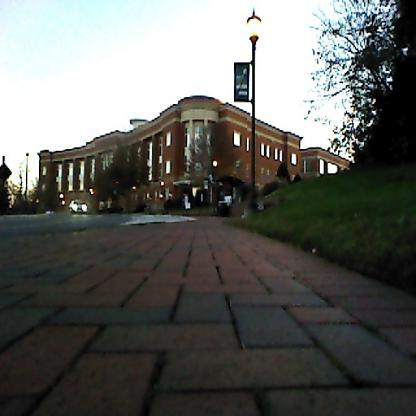Edge: (243, 219, 416, 328)
Sidewalk: (0, 224, 416, 416)
